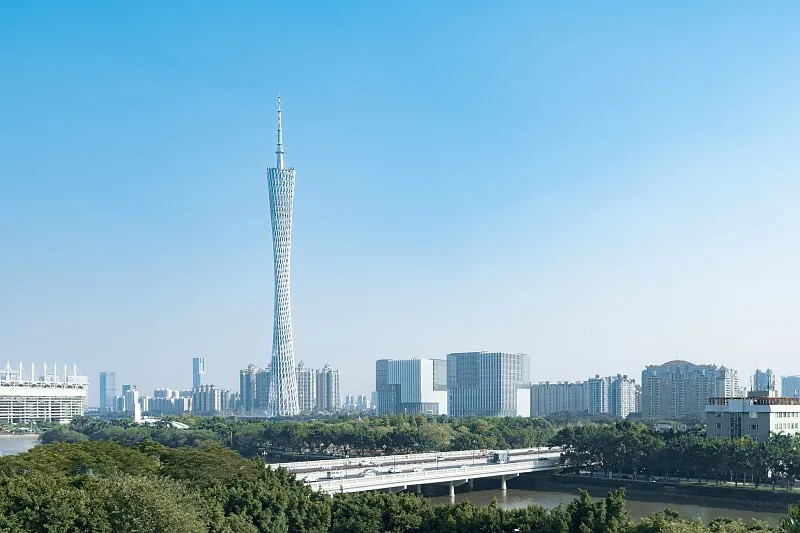Canton: (261, 89, 302, 418)
